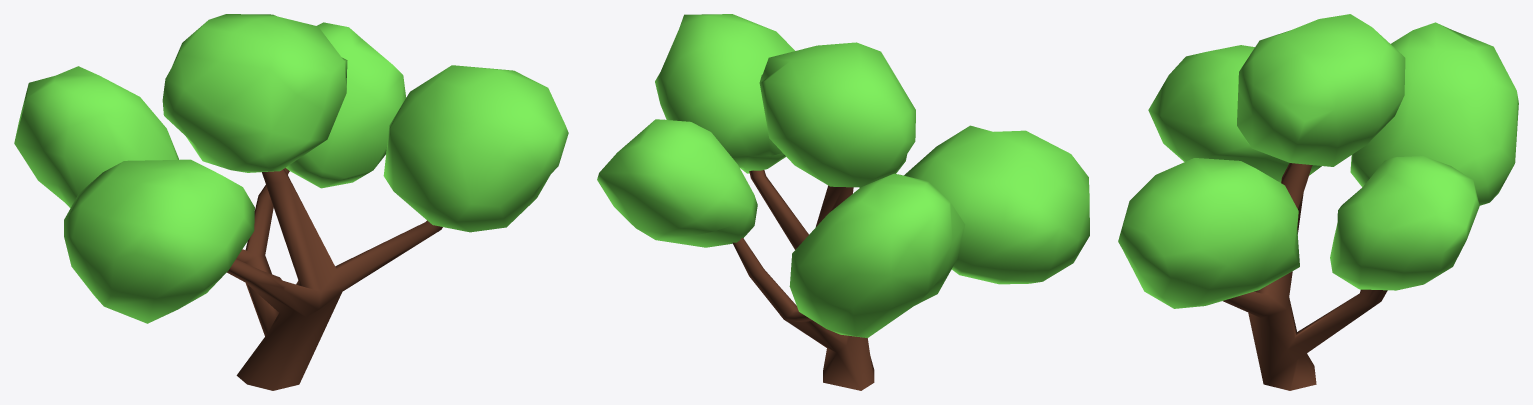
The model's file is Tree05.fbx.
The picture shows the model from 3 angles, left to right: view 1: azimuth 30°, elevation 25°; view 2: azimuth 150°, elevation 25°; view 3: azimuth 270°, elevation 25°; orthographic projection. The views are drawn at different scales.
Visible parts, largest first — view 1: Tree05; view 2: Tree05; view 3: Tree05.
Part boxes in pixels (x1,y1,x2,y2): Tree05: (14,14,568,390); Tree05: (597,14,1089,390); Tree05: (1118,14,1518,390).
Size of the model in its own units: 407 by 300 by 315.
